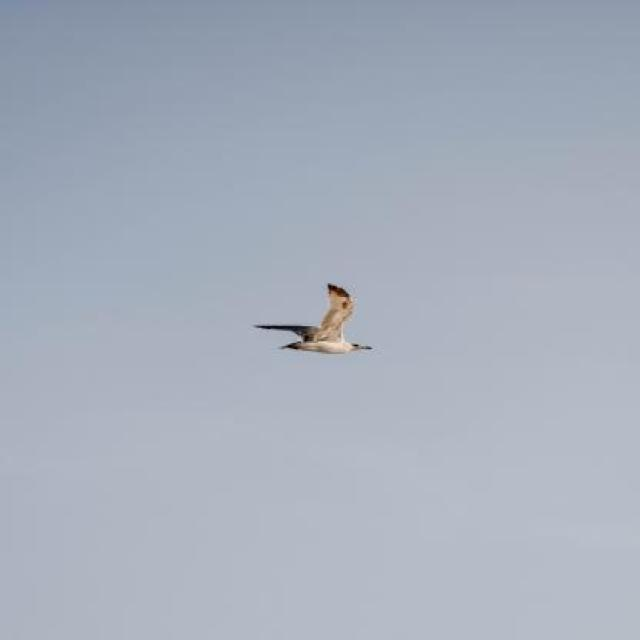bird: (252, 283, 374, 354)
